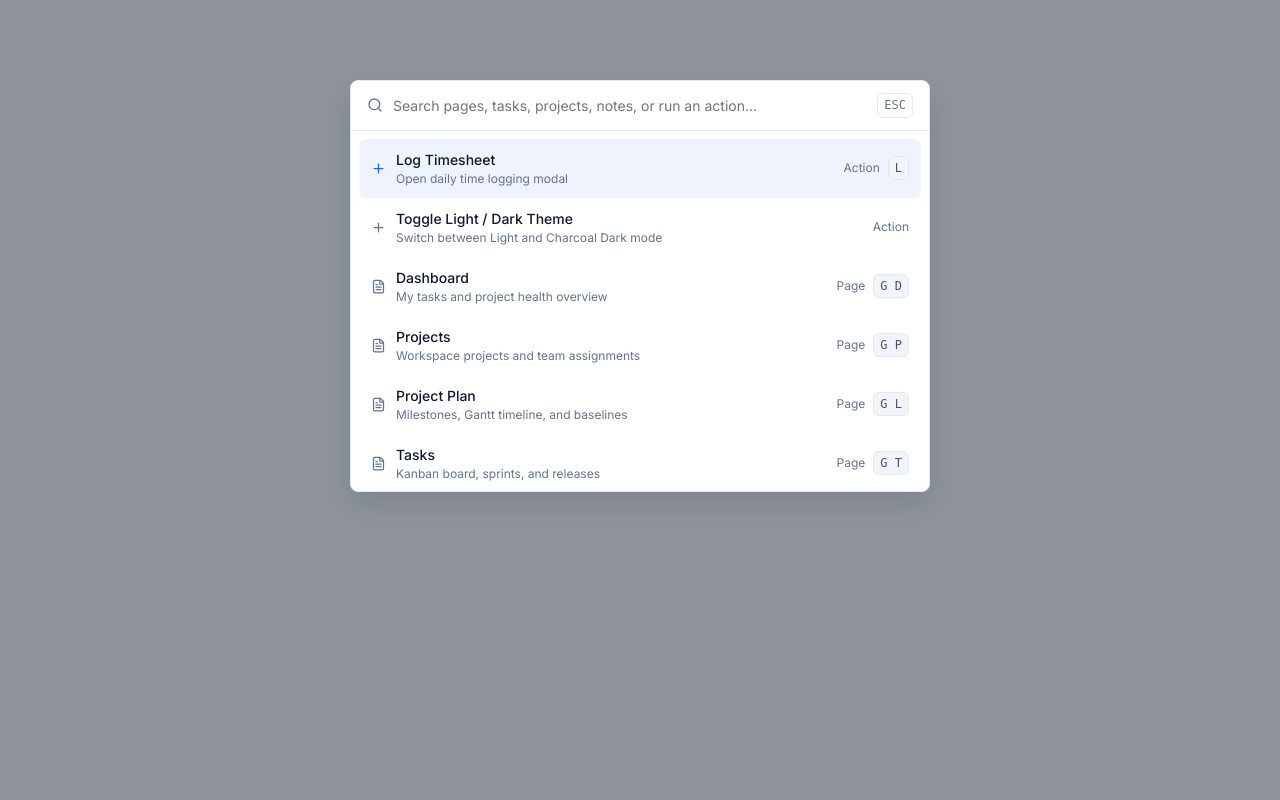
Scenario: CommandPalette › opens on Ctrl+K, searches tasks, and hides Create Task when user lacks create_task permission
Expected: the text "Log Timesheet" is shown, [396,151,495,168]
In the field with placeholder "Search pages, tasks, projects, notes, or run an action...": coordinates (630, 105) [393,95,867,116], type "Design Dashboard"
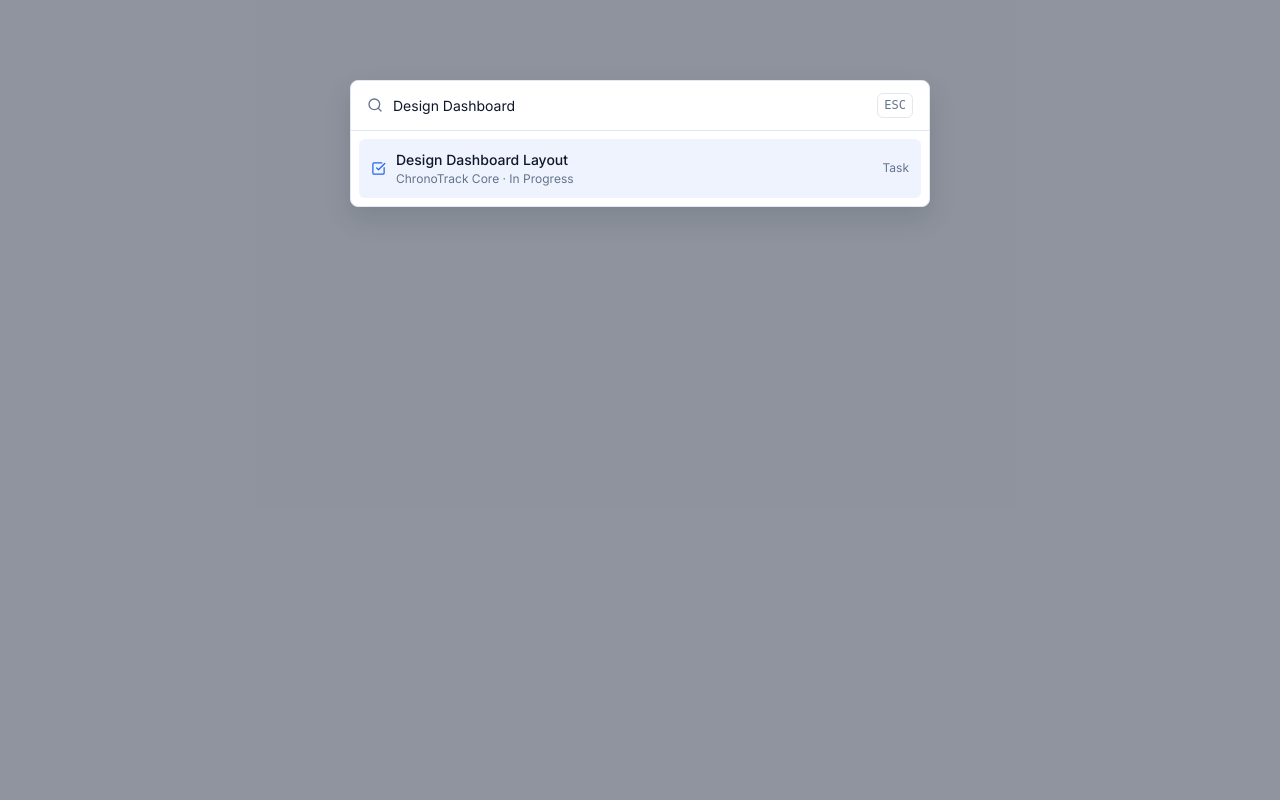
Expected: the text "Design Dashboard Layout" is shown, [396,149,574,170]
